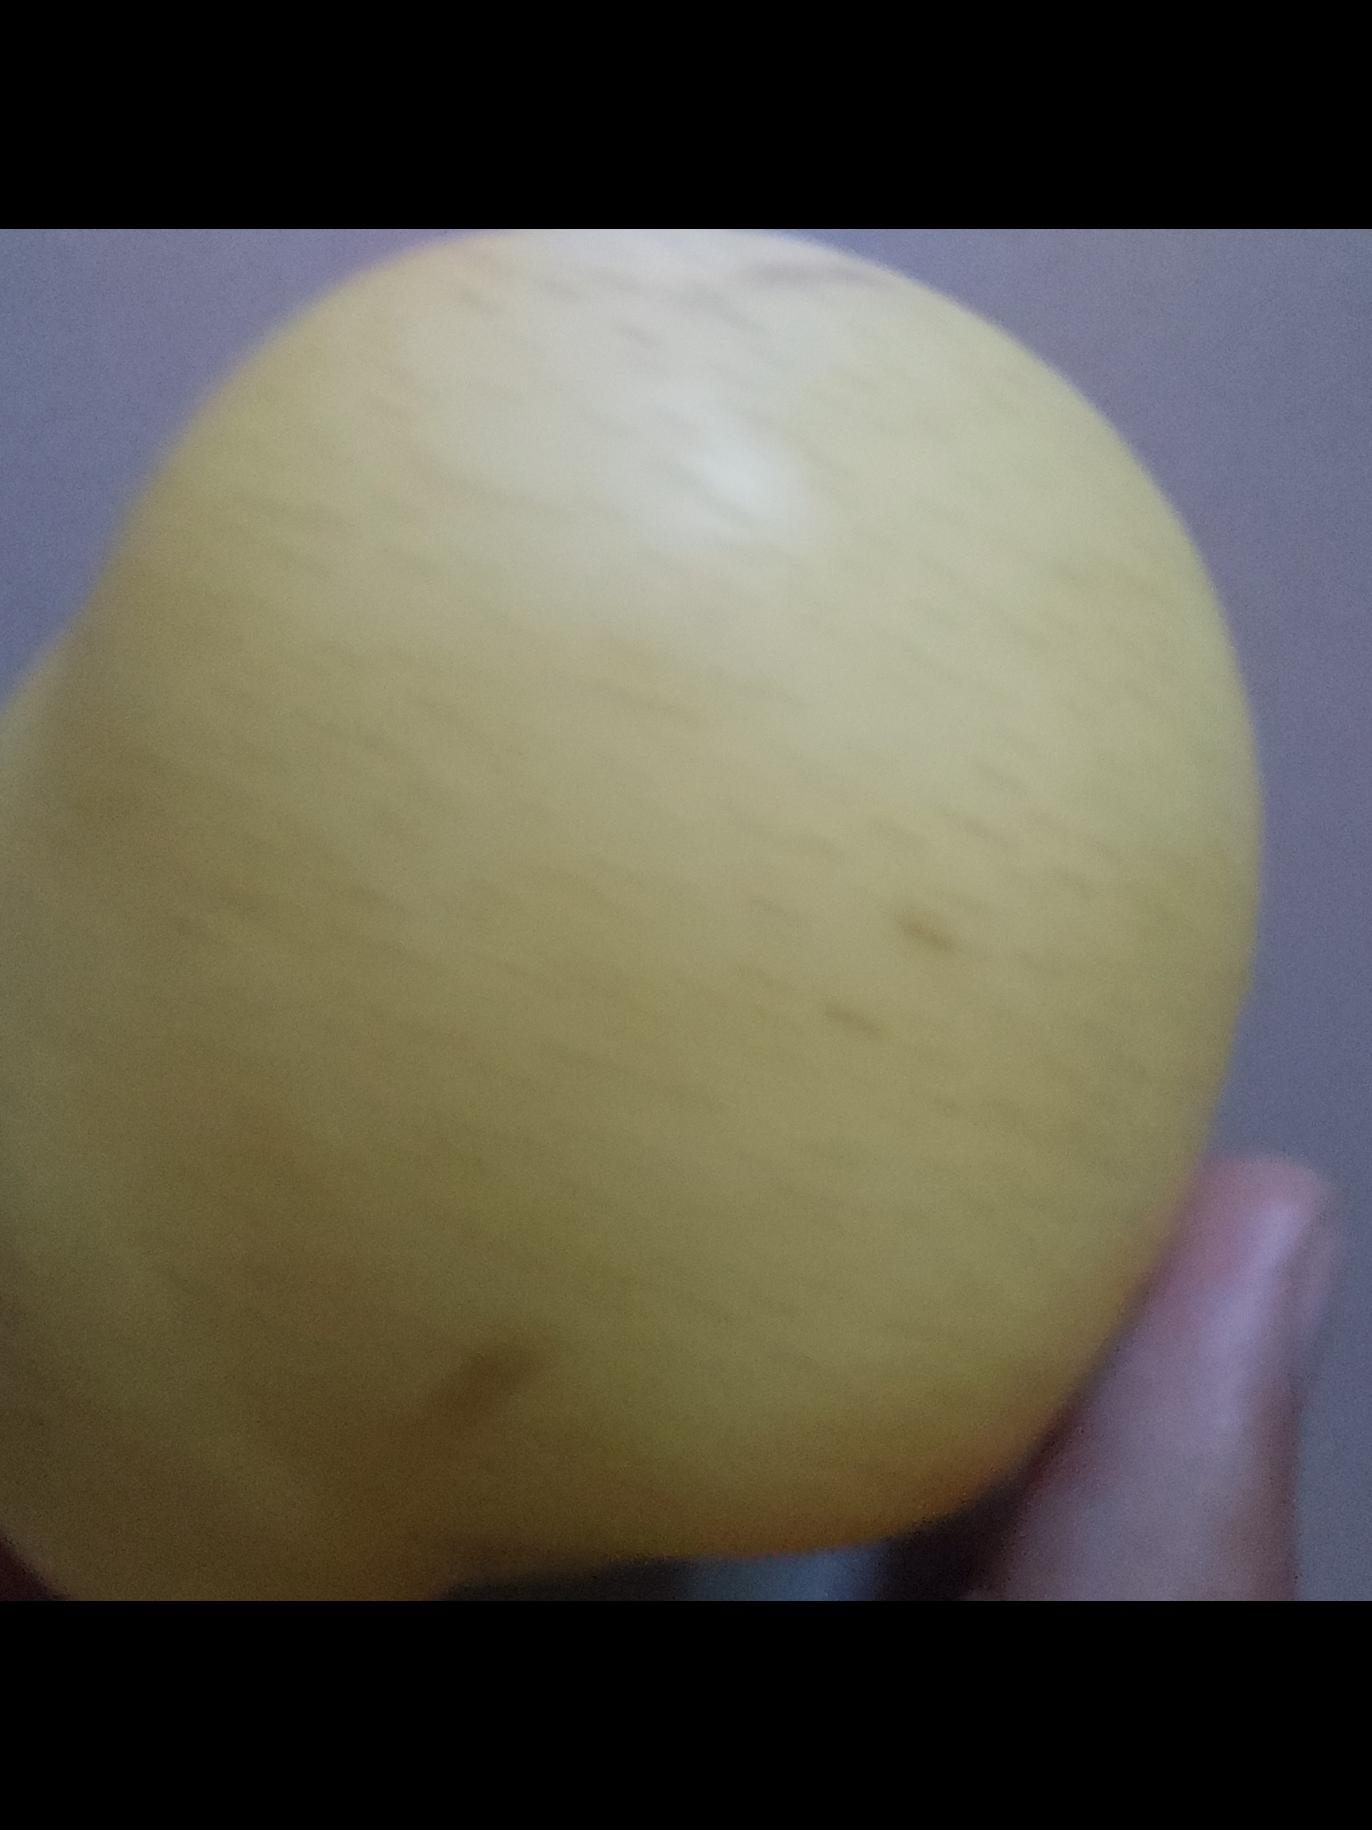Good Pear: (0, 229, 1249, 1167)
